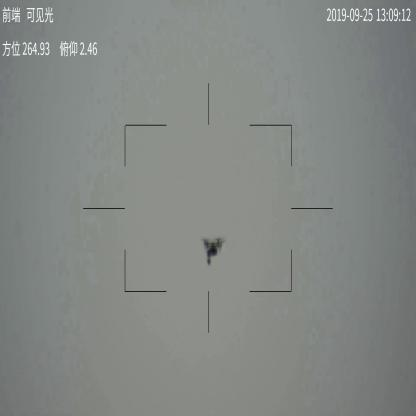uav: (202, 236, 224, 266)
